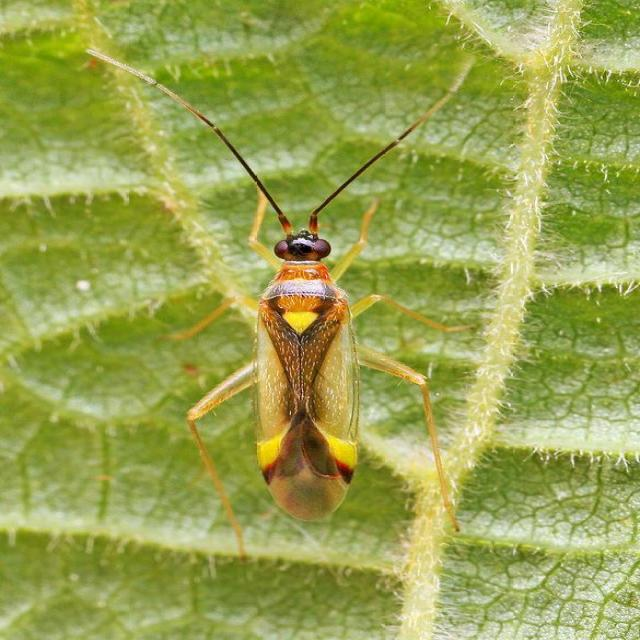Miridae-Adult-: (93, 38, 502, 537)
